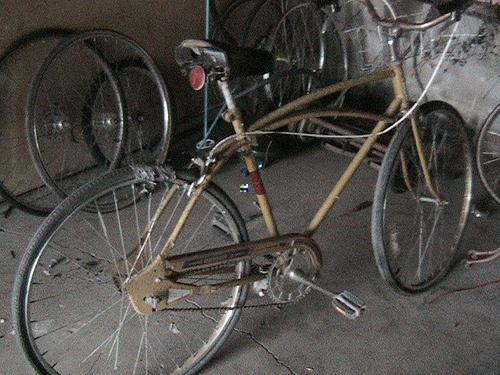car: (13, 1, 476, 375)
